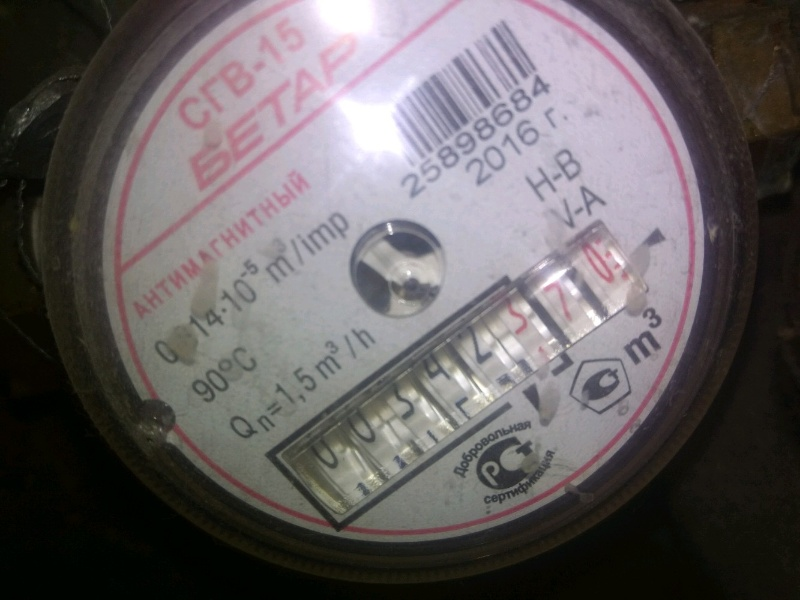meter: (305, 308, 627, 430)
